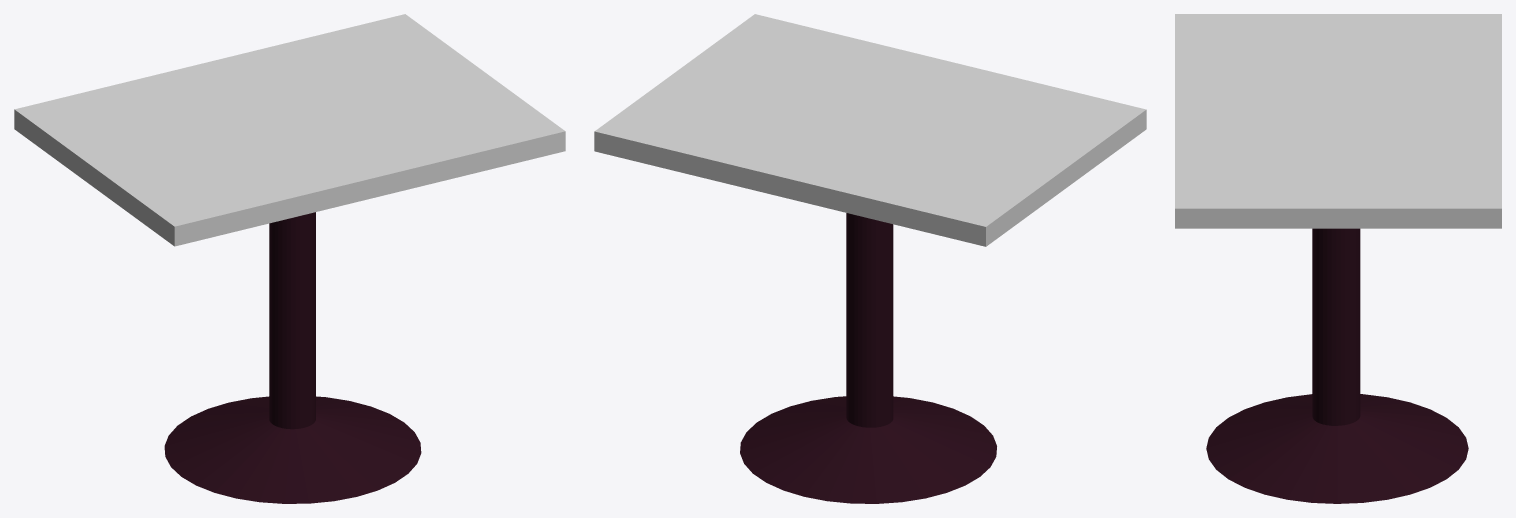
File: saomai.fbx
3 views of the same model, side by side, from view 1: azimuth 30°, elevation 25°; view 2: azimuth 150°, elevation 25°; view 3: azimuth 270°, elevation 25° (orthographic).
Visible parts, largest first — view 1: Cube.030, Cone.007, Cylinder.007; view 2: Cube.030, Cone.007, Cylinder.007; view 3: Cube.030, Cone.007, Cylinder.007.
Boxes of the visible parts, <box> form: Cube.030: <box>14,14,565,246</box>; Cone.007: <box>164,396,421,503</box>; Cylinder.007: <box>269,212,315,429</box>; Cube.030: <box>594,14,1146,246</box>; Cone.007: <box>740,396,996,503</box>; Cylinder.007: <box>846,213,893,427</box>; Cube.030: <box>1175,14,1501,228</box>; Cone.007: <box>1206,394,1468,503</box>; Cylinder.007: <box>1312,228,1360,425</box>.
Size of the model in its own units: 3013 by 2428 by 2139.
